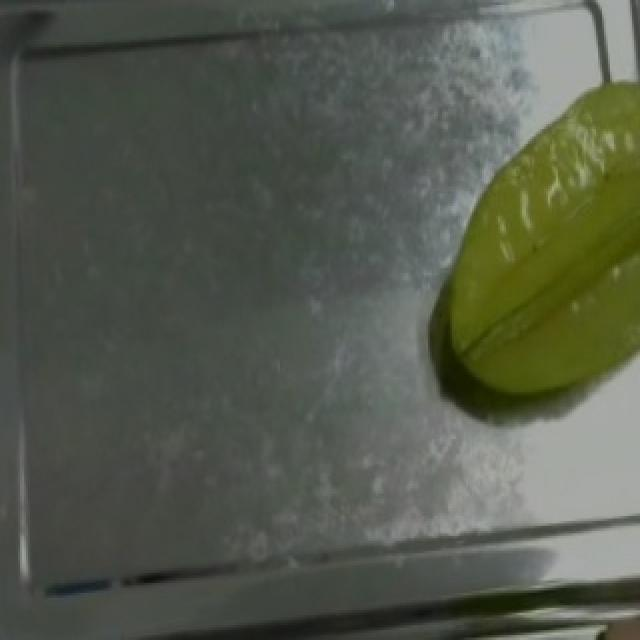fruit: (422, 60, 640, 429)
